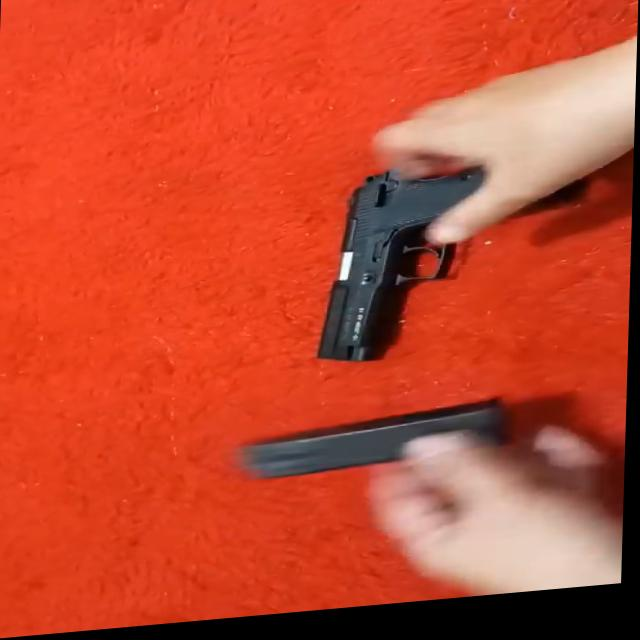handgun: (308, 170, 536, 376)
